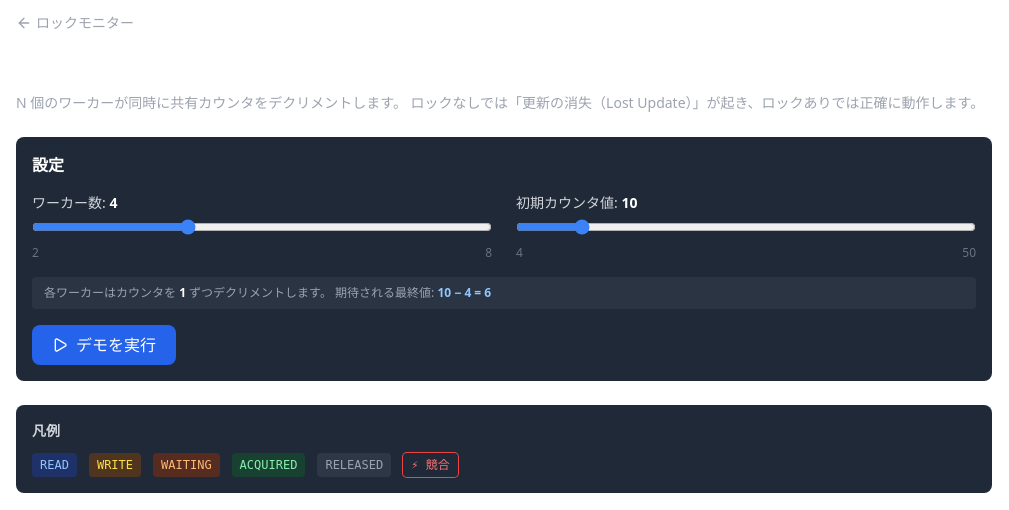
Test case: LockDemoPage › shows button as "実行中..." while running
Click the button "デモを実行": (104, 345) [32,325,176,365]
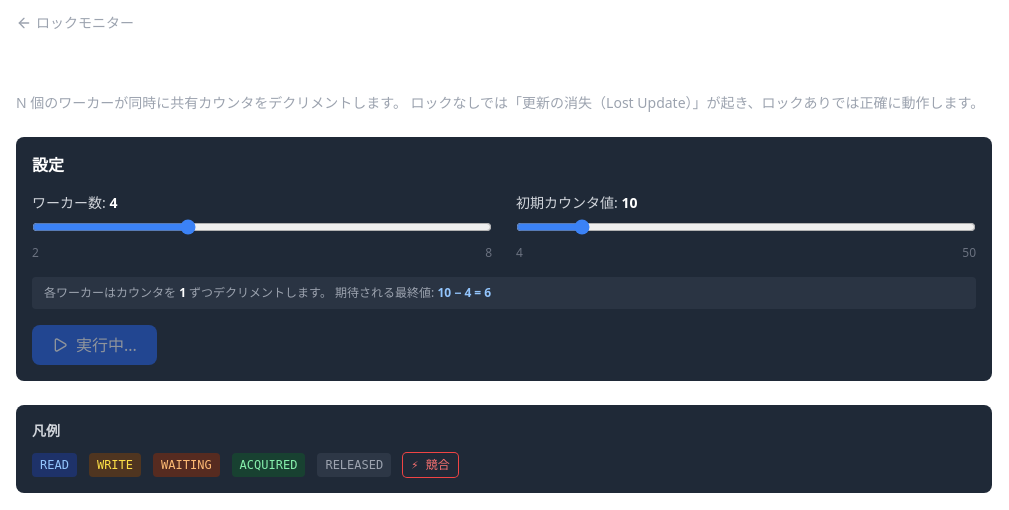
Expected: the button "実行中..." is shown, [32,325,157,365]
